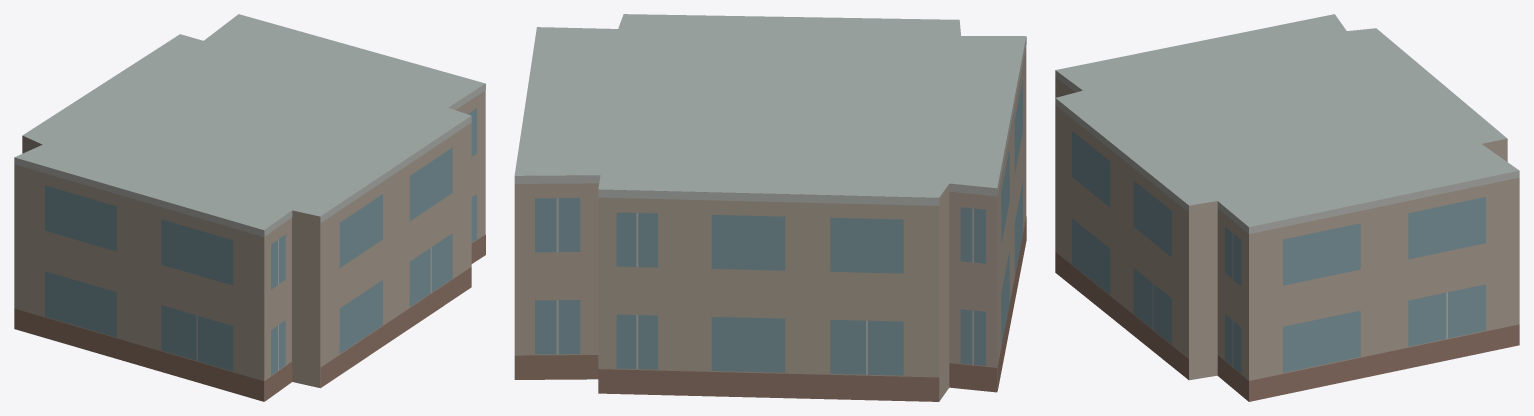
The model's file is survey-upis-33032258.glb.
The picture shows the model from 3 angles, left to right: view 1: azimuth 30°, elevation 25°; view 2: azimuth 150°, elevation 25°; view 3: azimuth 270°, elevation 25°; orthographic projection. The views are drawn at different scales.
Visible parts, largest first — view 1: survey-upis-33032258.tmp; view 2: survey-upis-33032258.tmp; view 3: survey-upis-33032258.tmp.
Boxes of the visible parts, x1,y1,x2,y2 form: survey-upis-33032258.tmp: [14, 14, 485, 401]; survey-upis-33032258.tmp: [514, 14, 1026, 401]; survey-upis-33032258.tmp: [1055, 14, 1519, 401].
Size of the model in its own units: 15.98 by 6.1 by 14.71.
